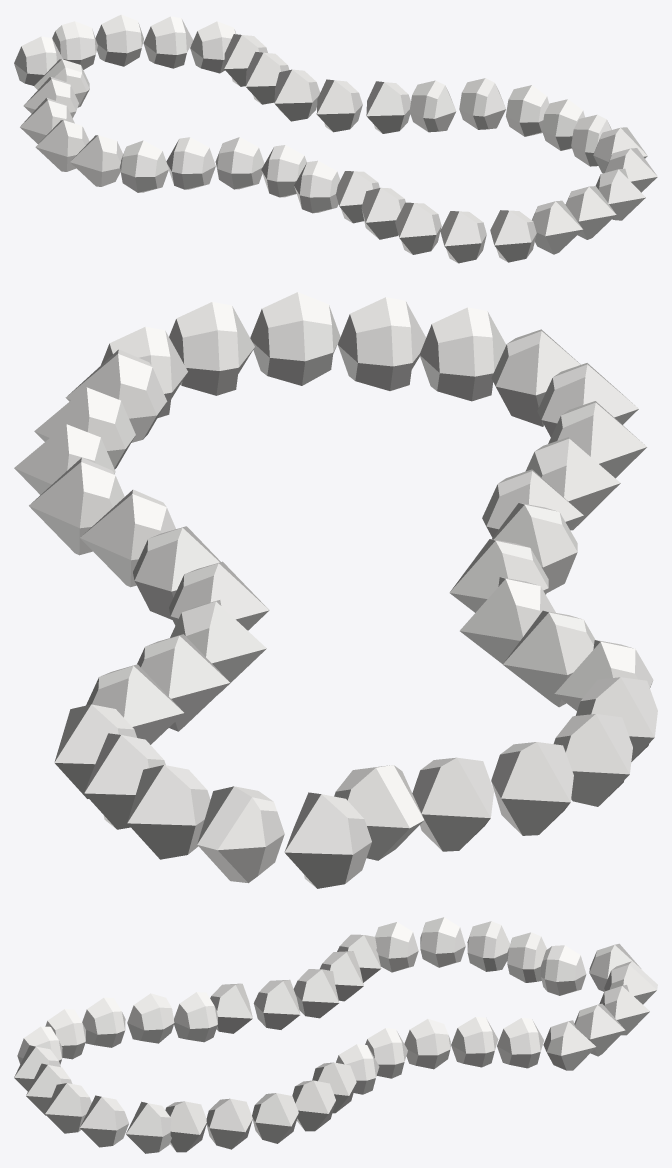
File: Pearls.fbx
The picture shows the model from 3 angles, top to bottom: view 1: azimuth 30°, elevation 25°; view 2: azimuth 150°, elevation 25°; view 3: azimuth 270°, elevation 25°; orthographic projection. The views are drawn at different scales.
Parts seen in each view (by area): view 1: Pearls; view 2: Pearls; view 3: Pearls.
Part boxes in pixels (bbox=[...]): Pearls: bbox=[14, 14, 657, 263]; Pearls: bbox=[14, 292, 657, 888]; Pearls: bbox=[14, 917, 657, 1153].
Size of the model in its own units: 27.45 by 35.28 by 3.39.
